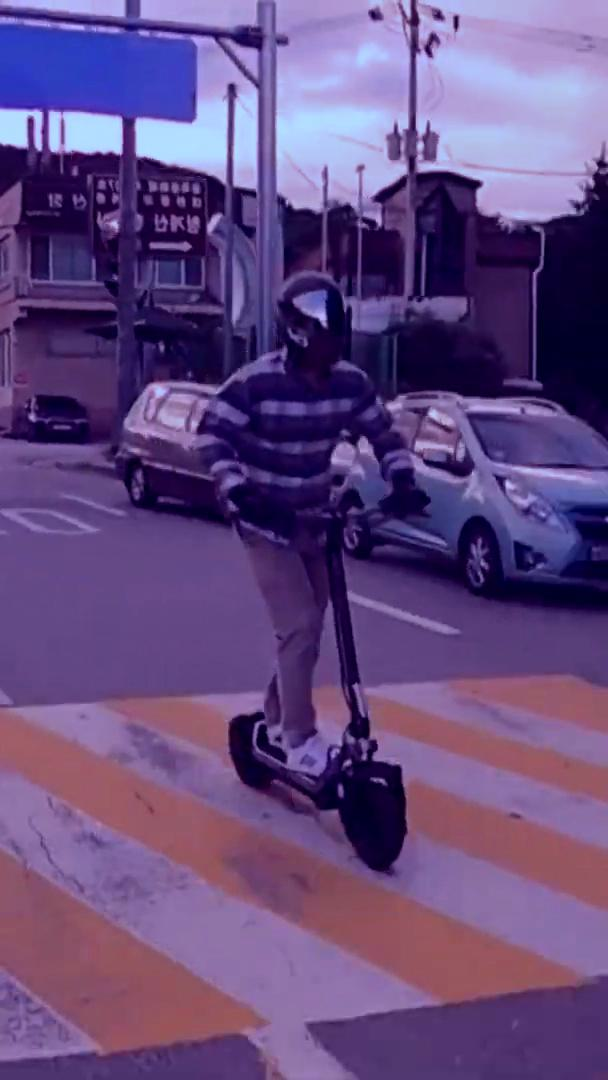helmet: (191, 269, 422, 875)
